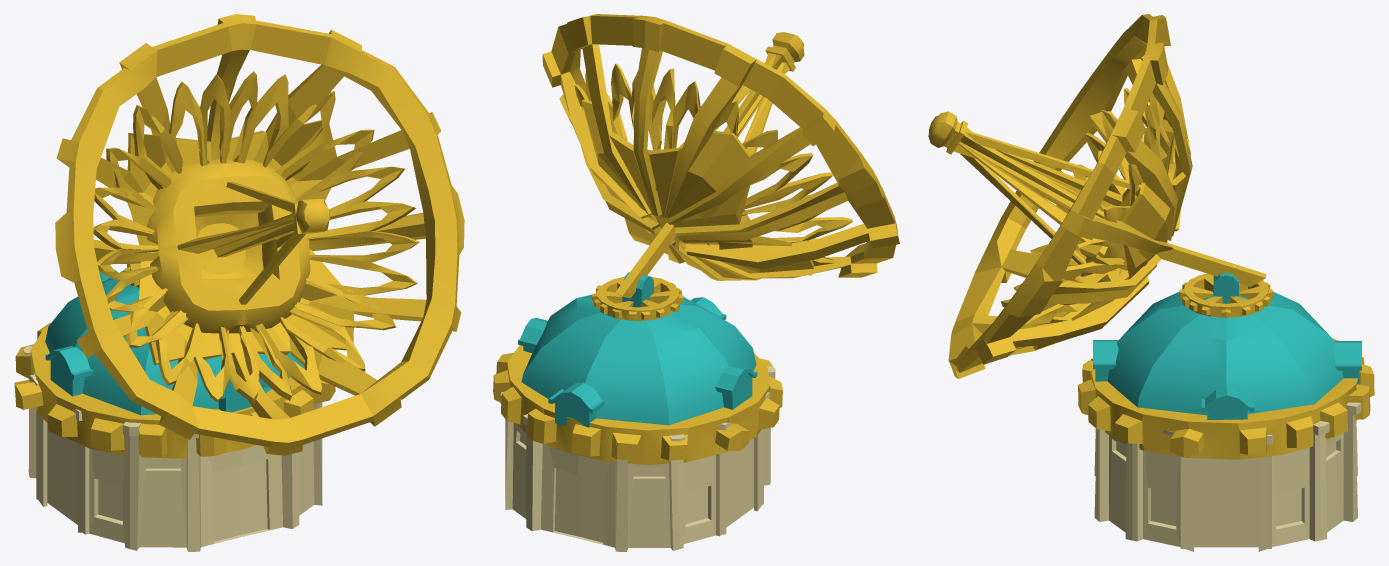
Rendered from emptypetal.fbx.
3 renders of one model, left to right at view 1: azimuth 30°, elevation 25°; view 2: azimuth 150°, elevation 25°; view 3: azimuth 270°, elevation 25°, orthographic. The views are drawn at different scales.
Visible parts, largest first — view 1: Cube.003, Cube.010, Cube, Cube.009, Cube.007, Cube.001, Cube.005; view 2: Cube.003, Cube, Cube.001, Cube.007, Cube.010, Cube.005, Cube.009, Cube.006, Cube.002; view 3: Cube.003, Cube, Cube.001, Cube.007, Cube.009, Cube.010, Cube.005, Cube.006, Cube.002.
Boxes of the visible parts, bbox=[...] form: Cube.003: bbox=[55, 14, 464, 455]; Cube.010: bbox=[93, 71, 419, 403]; Cube: bbox=[23, 346, 322, 551]; Cube.009: bbox=[147, 159, 329, 333]; Cube.007: bbox=[14, 323, 336, 458]; Cube.001: bbox=[45, 270, 304, 415]; Cube.005: bbox=[45, 269, 269, 412]; Cube.003: bbox=[542, 14, 899, 280]; Cube: bbox=[500, 366, 775, 551]; Cube.001: bbox=[521, 272, 756, 425]; Cube.007: bbox=[493, 345, 782, 464]; Cube.010: bbox=[574, 63, 853, 266]; Cube.005: bbox=[518, 297, 757, 427]; Cube.009: bbox=[636, 32, 804, 249]; Cube.006: bbox=[592, 276, 683, 320]; Cube.002: bbox=[614, 222, 676, 298]; Cube.003: bbox=[948, 14, 1192, 378]; Cube: bbox=[1091, 357, 1361, 551]; Cube.001: bbox=[1107, 272, 1343, 415]; Cube.007: bbox=[1078, 338, 1374, 459]; Cube.009: bbox=[928, 111, 1176, 282]; Cube.010: bbox=[1001, 81, 1175, 349]; Cube.005: bbox=[1093, 340, 1361, 419]; Cube.006: bbox=[1179, 273, 1273, 317]; Cube.002: bbox=[1156, 242, 1265, 286].
Bounding box in the file's own units: 446 × 558 × 489.
